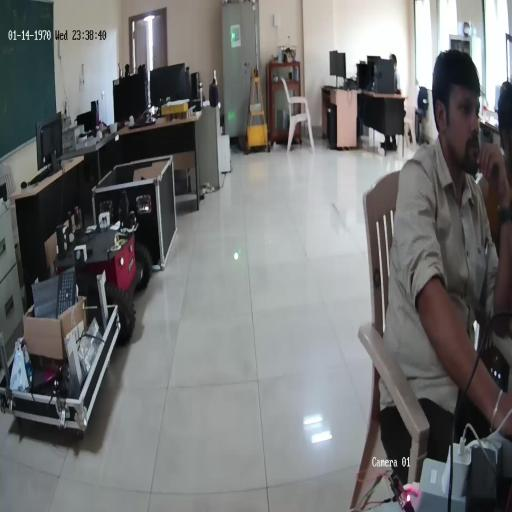laser: (232, 250, 240, 262)
